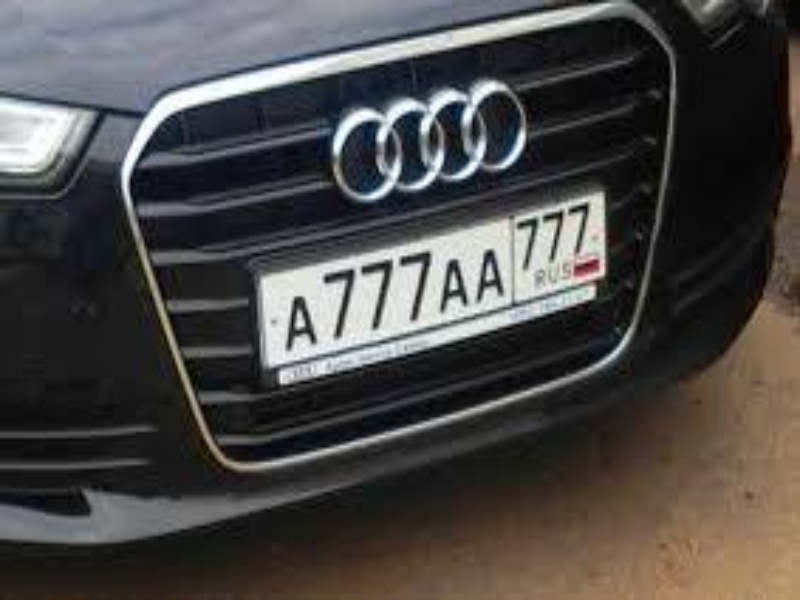car: (1, 1, 793, 550)
plate: (257, 188, 607, 374)
